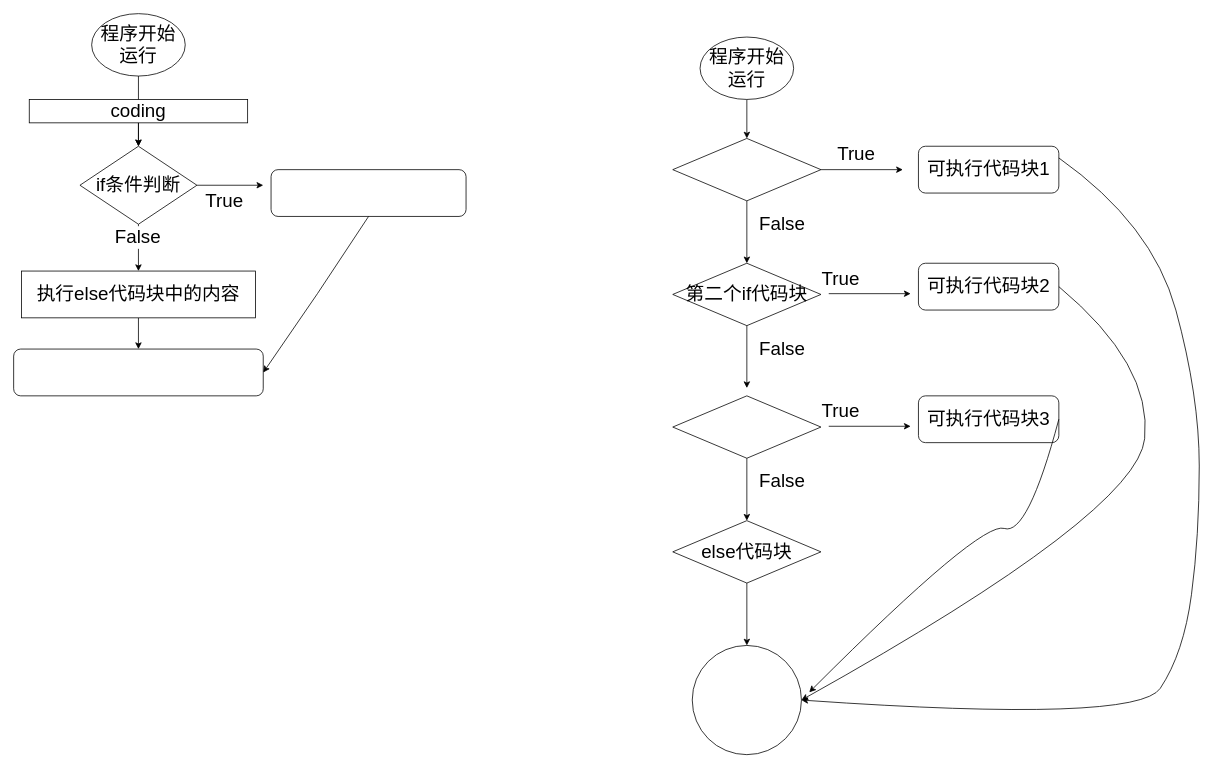
Image size: 1213x768. Some labels were removed from this diagram. The box of each missing label's shape, as (x1, y1, x2, y2) in pixels:
if代码块: (672, 138, 821, 201)
执行if代码块中的代码: (270, 169, 466, 216)
程序运行完成: (691, 645, 801, 755)
程序运行结束: (13, 348, 263, 396)
第三个if代码块: (672, 395, 821, 458)
